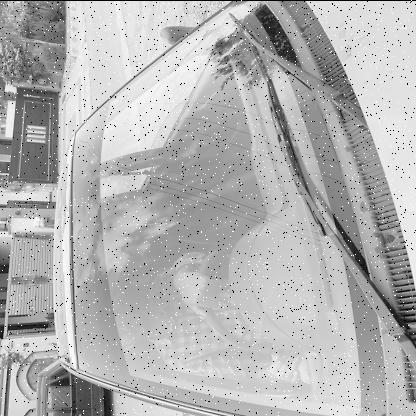no_seatbelt: (122, 287, 232, 363)
